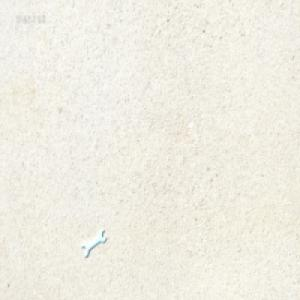Wrench: (82, 229, 107, 258)
